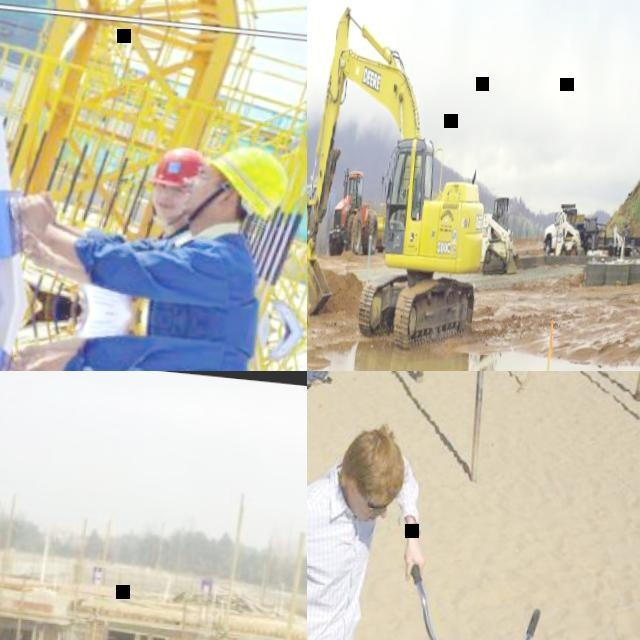Hardhat: (205, 138, 294, 219), (148, 144, 208, 185)
NO-Hardhat: (337, 423, 410, 500)
NO-Mask: (336, 471, 380, 524), (184, 176, 210, 209), (151, 193, 184, 216)
NO-Safety Vest: (158, 230, 266, 340), (147, 302, 266, 371)
Person: (12, 118, 292, 307), (18, 132, 207, 292), (307, 408, 436, 640), (0, 302, 274, 371), (4, 310, 192, 371), (307, 371, 339, 388)
Safety Vest: (307, 479, 376, 640)
machinery: (307, 0, 505, 347), (327, 165, 391, 257), (478, 192, 529, 275), (542, 198, 608, 255), (555, 209, 584, 255)
